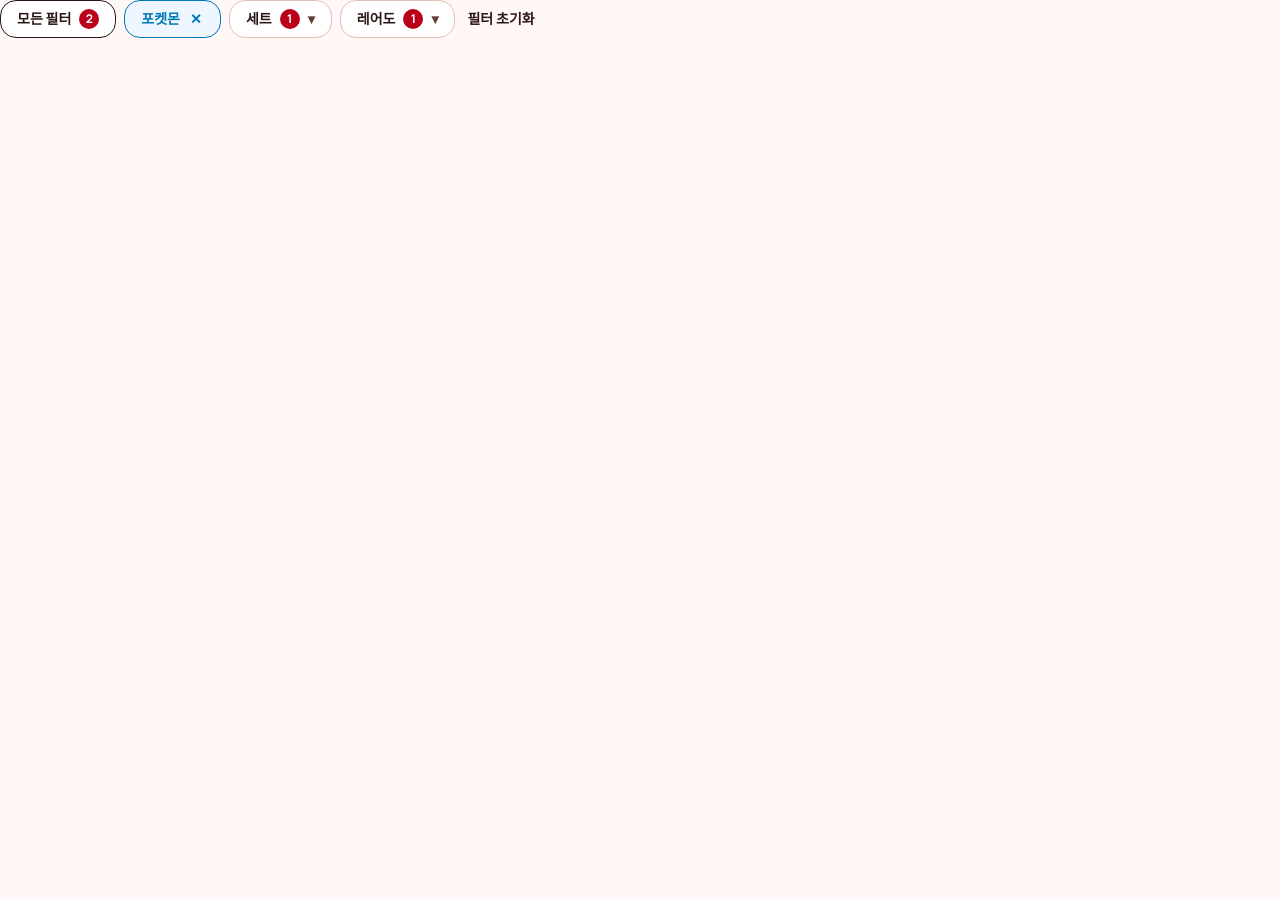
Test case: CategoryFilterBar › reflects the current selected filters as checked state
Click the button "레어도 1 ▾": point(398, 19) [340,0,456,38]
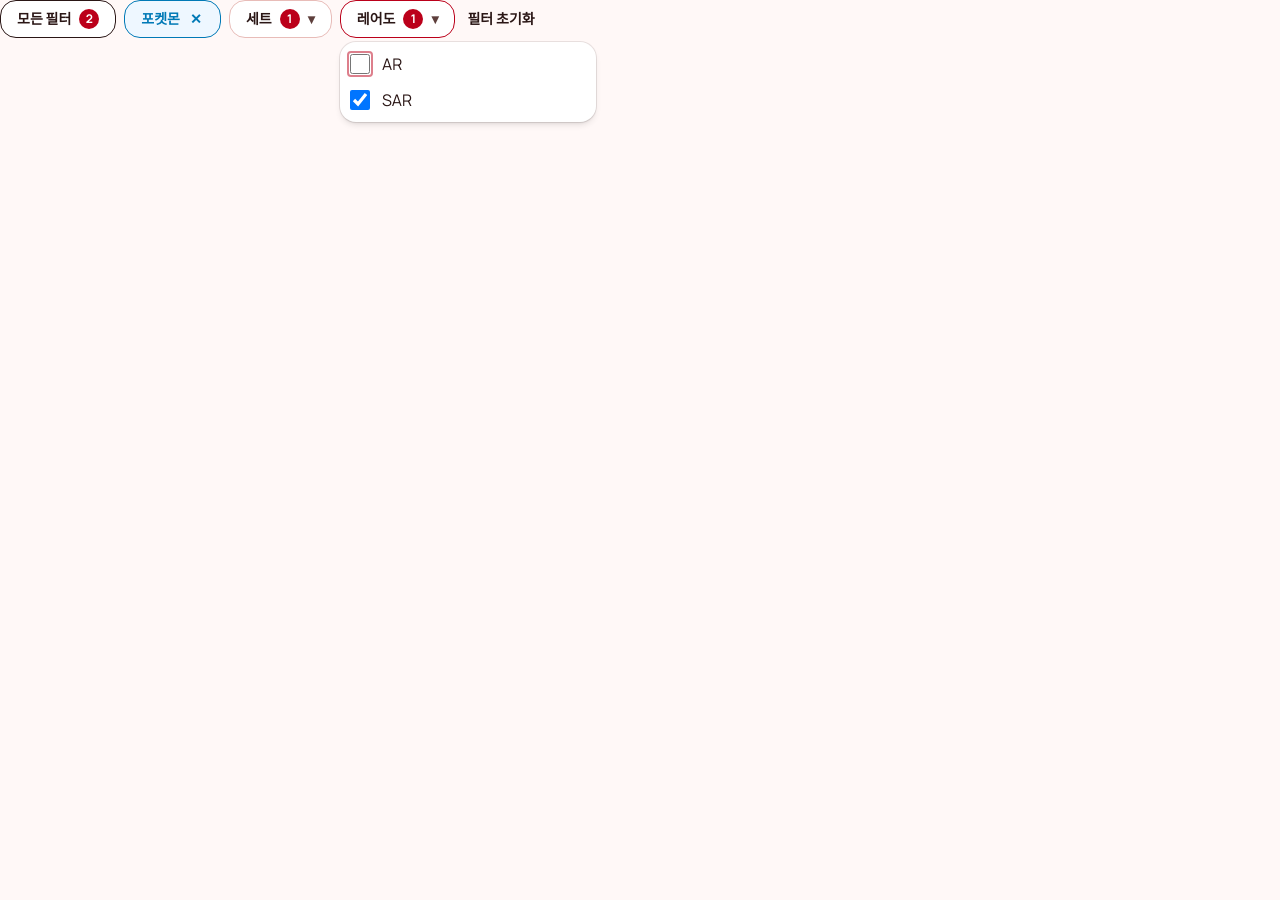
expect the checkbox labelled "SAR" is checked: met, box [350,90,370,110]
expect the checkbox labelled "AR" is not checked: met, box [350,54,370,74]
